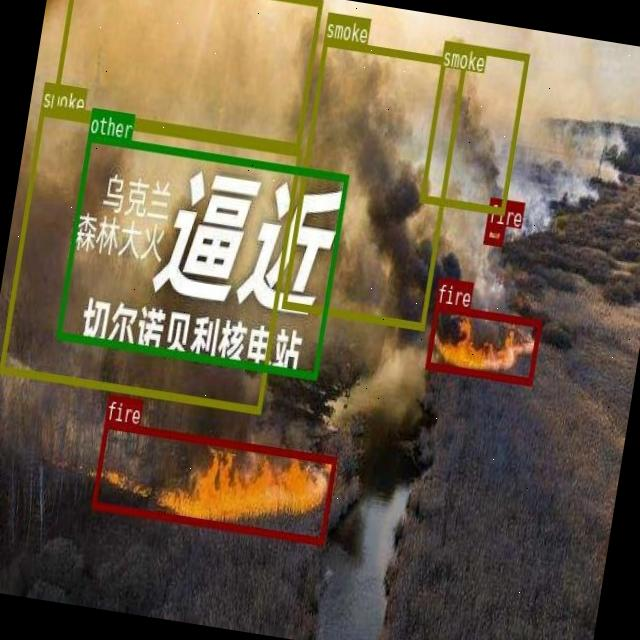fire: (91, 420, 337, 544), (425, 304, 542, 384), (483, 222, 504, 244)
smoke: (0, 106, 302, 412), (282, 39, 466, 328), (51, 0, 322, 149), (418, 39, 530, 214)
